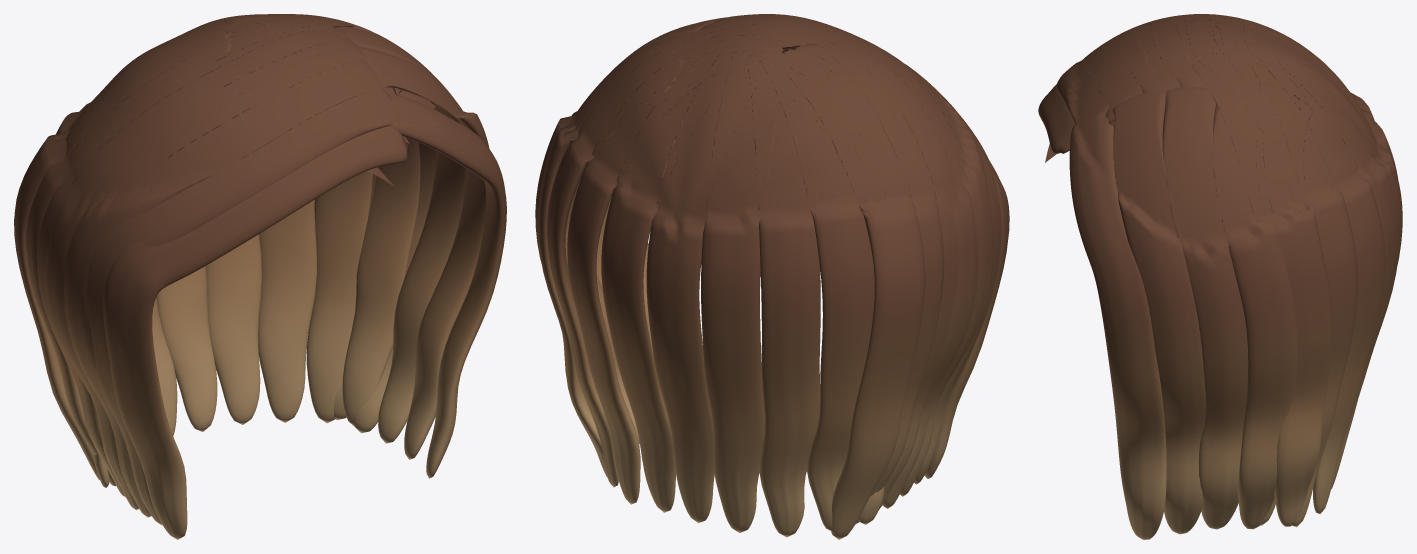
Rendered from Feminine-side-sweep-headband260-hair-ombre.glb.
3 views of the same model, side by side, from view 1: azimuth 30°, elevation 25°; view 2: azimuth 150°, elevation 25°; view 3: azimuth 270°, elevation 25° (orthographic). The views are drawn at different scales.
Visible parts, largest first — view 1: 226 hair / Hair / sculpted 0.002, 226 hair / Hair / sculpted 1.004, 226 hair / Hair / sculpted 2.002; view 2: 226 hair / Hair / sculpted 0.002, 226 hair / Hair / sculpted 2.002, 226 hair / Hair / sculpted 1.004; view 3: 226 hair / Hair / sculpted 1.004, 226 hair / Hair / sculpted 2.002, 226 hair / Hair / sculpted 0.002.
Part boxes in pixels (bbox=[...]): 226 hair / Hair / sculpted 0.002: bbox=[14, 14, 465, 539]; 226 hair / Hair / sculpted 1.004: bbox=[37, 14, 506, 525]; 226 hair / Hair / sculpted 2.002: bbox=[26, 14, 489, 517]; 226 hair / Hair / sculpted 0.002: bbox=[565, 14, 1009, 539]; 226 hair / Hair / sculpted 2.002: bbox=[537, 14, 993, 530]; 226 hair / Hair / sculpted 1.004: bbox=[535, 16, 1001, 537]; 226 hair / Hair / sculpted 1.004: bbox=[1056, 14, 1399, 539]; 226 hair / Hair / sculpted 2.002: bbox=[1083, 14, 1402, 534]; 226 hair / Hair / sculpted 0.002: bbox=[1038, 14, 1398, 529].
Size of the model in its own units: 1.01 by 1.07 by 0.8006.
